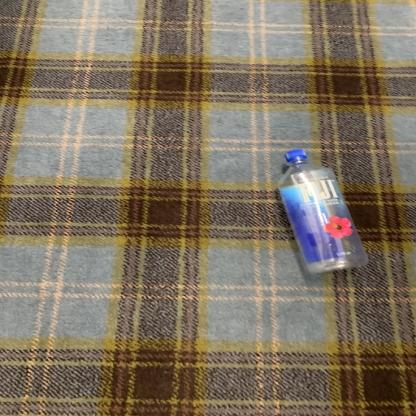trash: (276, 147, 374, 278)
